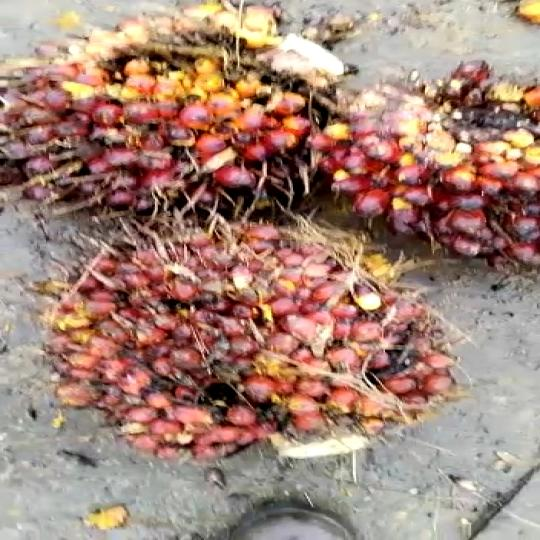masak: (36, 214, 480, 466), (0, 0, 364, 228), (310, 69, 540, 286)
